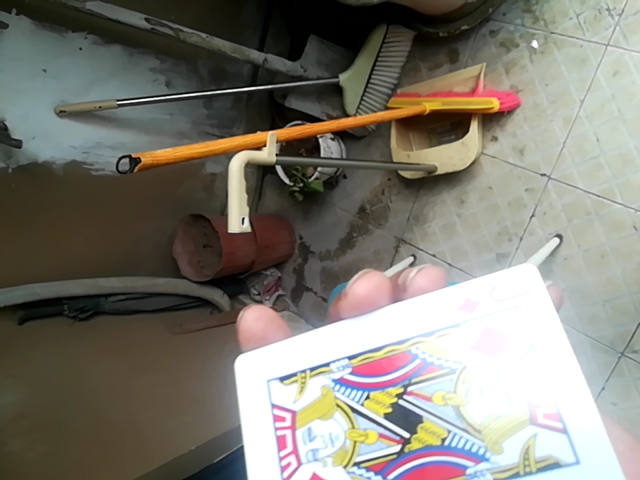fk j: (232, 265, 637, 480)
